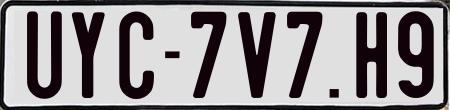7: (190, 11, 229, 103), (284, 11, 319, 97)
9: (395, 9, 433, 99)
C: (118, 10, 157, 102)
H: (355, 9, 388, 95)
U: (27, 10, 66, 102)
V: (237, 9, 275, 95)
Y: (69, 12, 104, 103)
